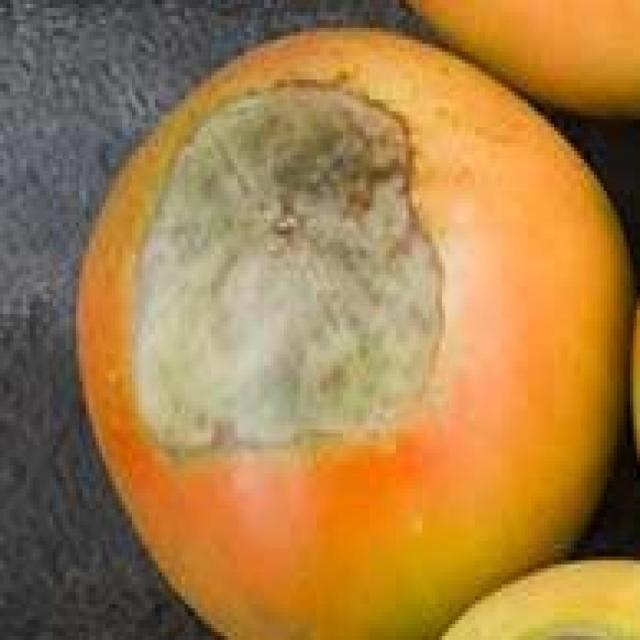Sunscald Fruit: (86, 50, 297, 308)
